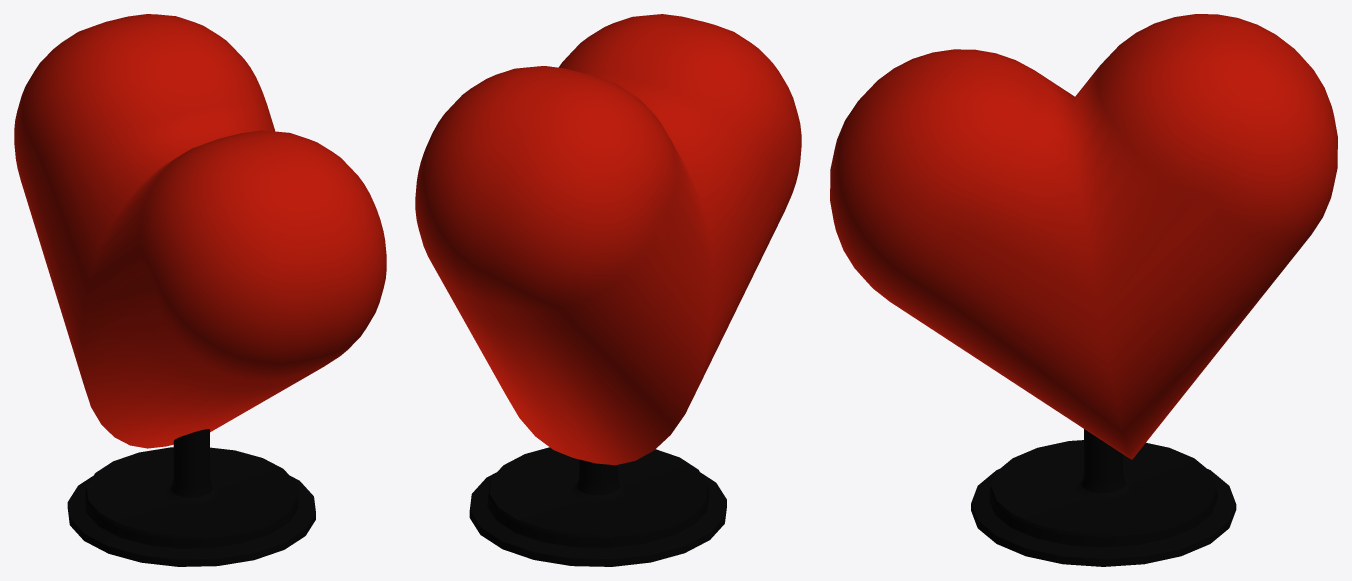
Rendered from coeur_final.fbx.
3 renders of one model, left to right at view 1: azimuth 30°, elevation 25°; view 2: azimuth 150°, elevation 25°; view 3: azimuth 270°, elevation 25°, orthographic. The views are drawn at different scales.
Parts seen in each view (by area): view 1: Cube, Socle_pomme; view 2: Cube, Socle_pomme; view 3: Cube, Socle_pomme.
Part boxes in pixels (bbox=[...]): Cube: bbox=[14, 14, 386, 448]; Socle_pomme: bbox=[67, 429, 315, 566]; Cube: bbox=[415, 14, 801, 465]; Socle_pomme: bbox=[469, 447, 726, 566]; Cube: bbox=[830, 14, 1337, 459]; Socle_pomme: bbox=[971, 429, 1236, 566].
Bounding box in the file's own units: 201 × 400 × 383.
